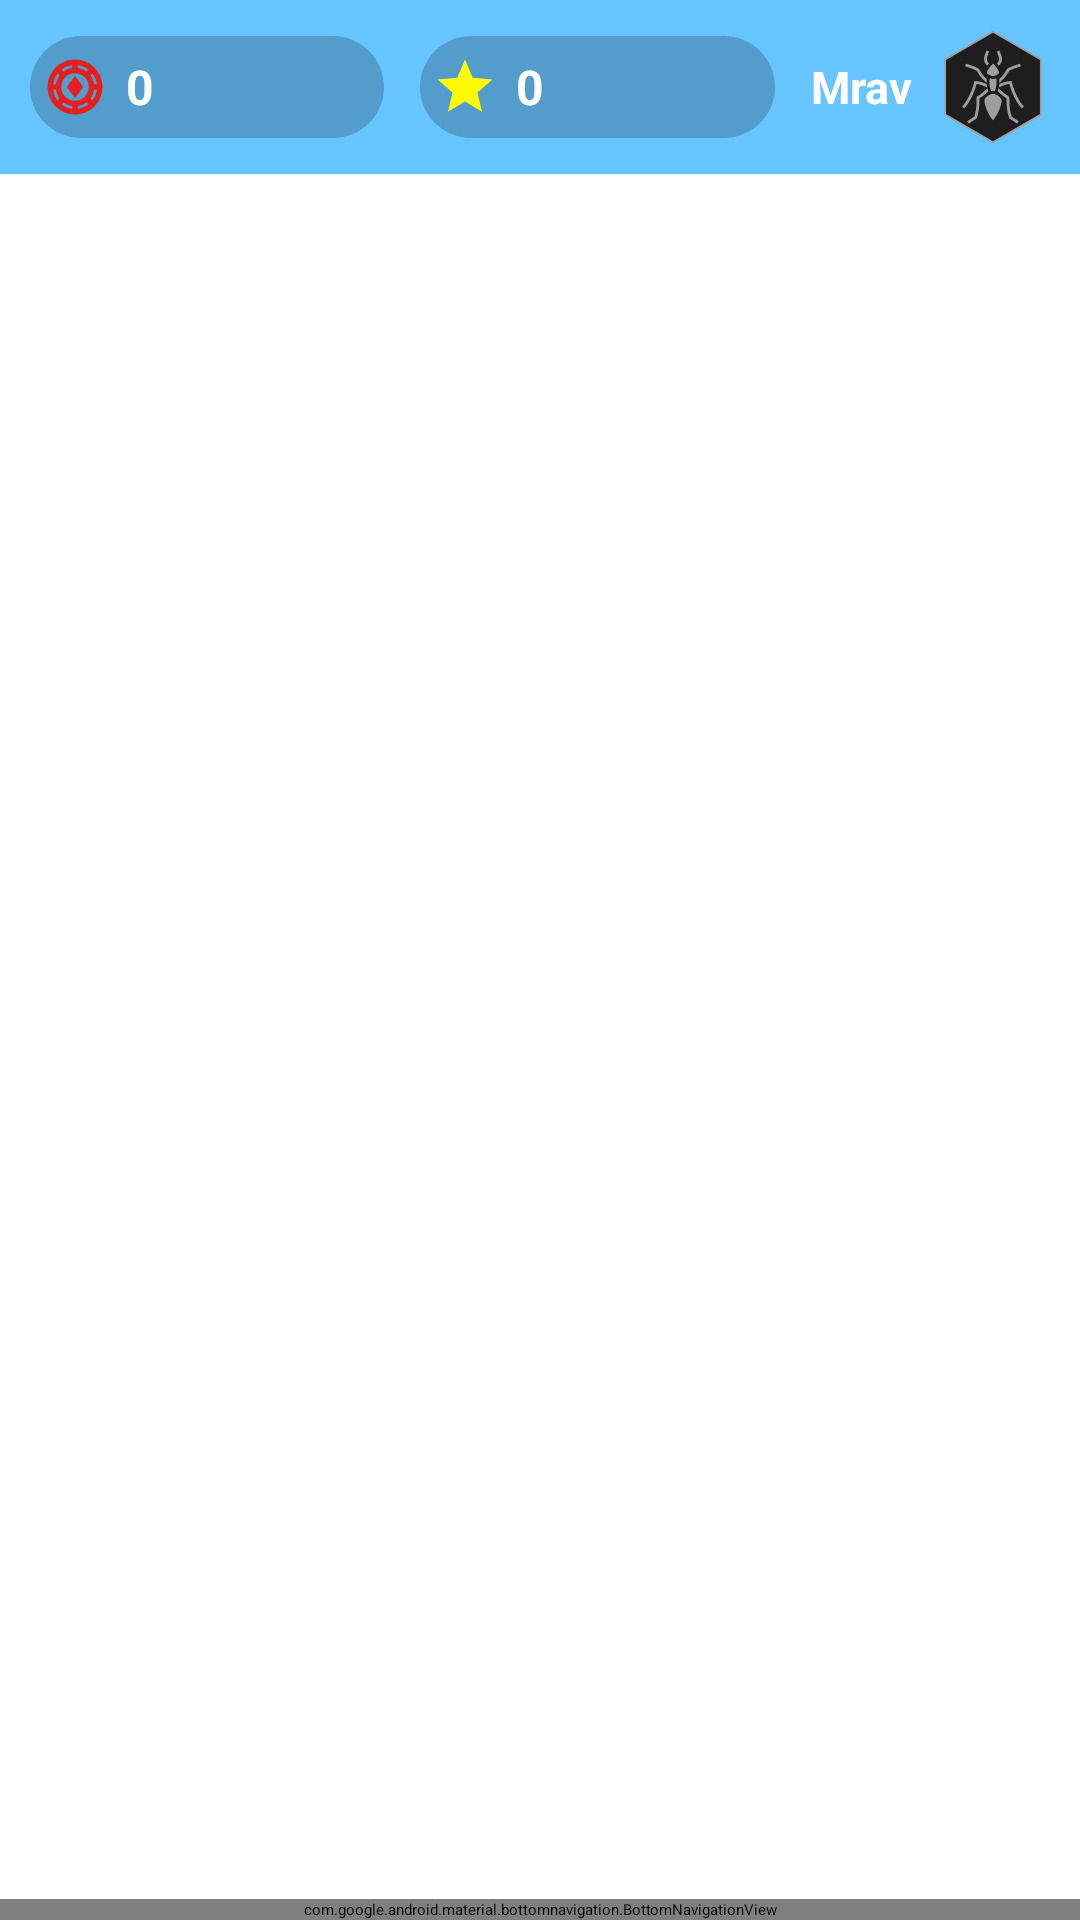

Named icons in this screenshot (1080w x 1920h) and their bounding boxes, (x1, y1, x2, y2):
Liga: (944, 31, 1042, 143)
Tokeni: (47, 59, 103, 115)
Zvezde: (438, 60, 492, 112)
